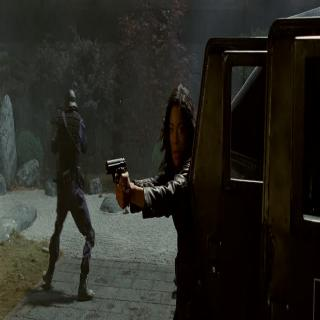gun: (105, 150, 132, 213)
